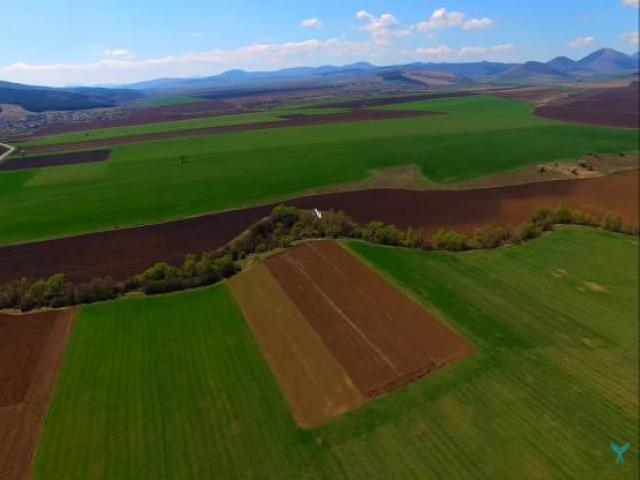uav: (308, 202, 327, 224)
